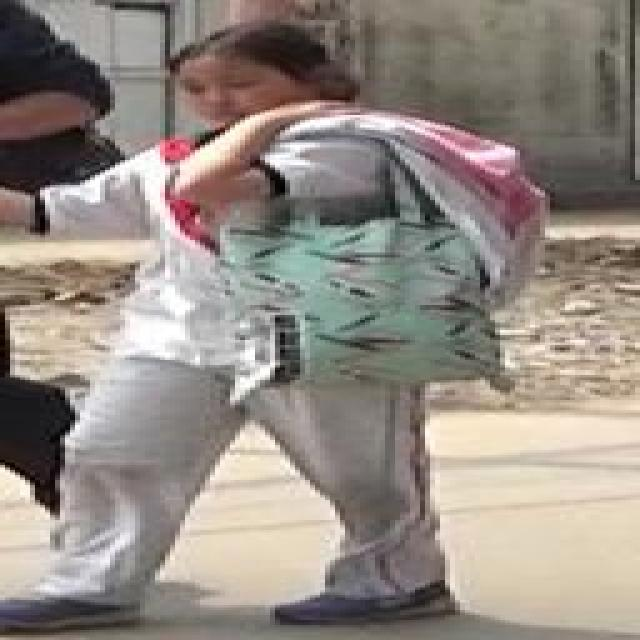child: (0, 22, 515, 622)
